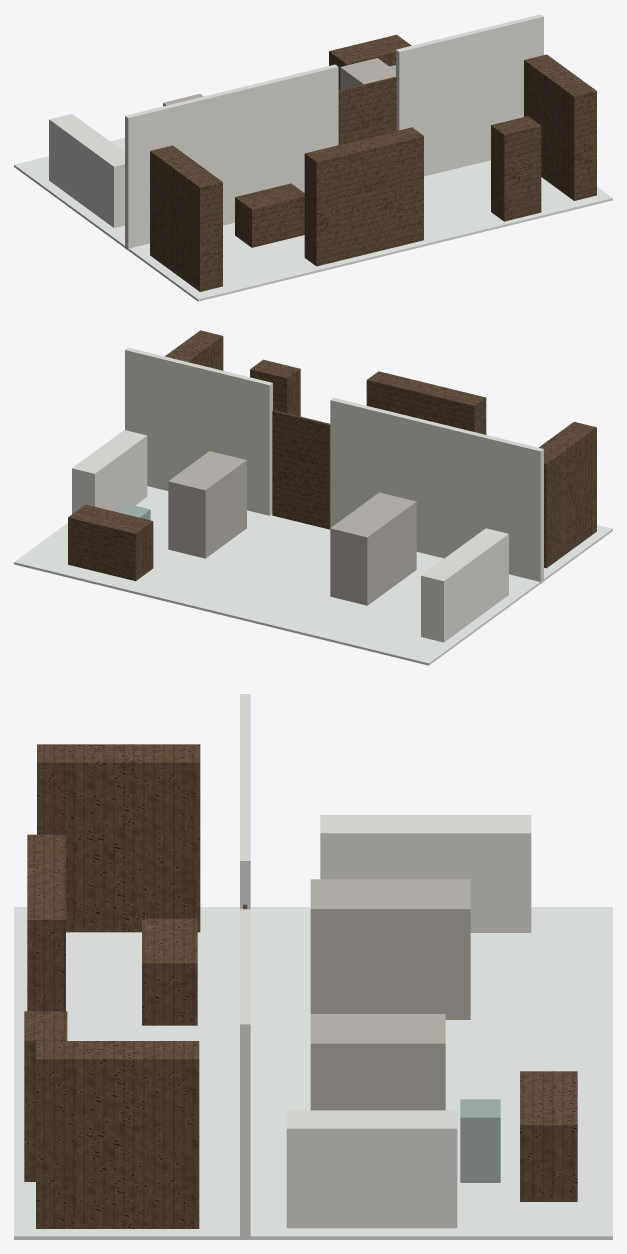
3 views of the same model, one above another, from view 1: azimuth 30°, elevation 25°; view 2: azimuth 150°, elevation 25°; view 3: azimuth 270°, elevation 25° (orthographic). The views are drawn at different scales.
Visible parts, largest first — view 1: C01_divisoria_estoque_E, C01_divisoria_estoque_D, C01_piso_interno_demonstrativo, C01_estante_fundo, C01_estante_estoque_E, C01_estante_estoque_D, C01_expositor_parede_esquerda, C01_armario_administrativo, C01_mesa_apoio_estoque, C01_porta_estoque_folha_FECHADA_CANDIDATA, C01_balcao_caixa, C01_gondola_centro_direita; view 2: C01_piso_interno_demonstrativo, C01_divisoria_estoque_E, C01_divisoria_estoque_D, C01_gondola_centro_esquerda, C01_gondola_centro_direita, C01_expositor_parede_esquerda, C01_estante_estoque_E, C01_porta_estoque_folha_FECHADA_CANDIDATA, C01_balcao_caixa, C01_expositor_parede_direita, C01_estante_fundo, C01_armario_administrativo (+1 smaller); view 3: C01_piso_interno_demonstrativo, C01_estante_estoque_D, C01_estante_estoque_E, C01_gondola_centro_esquerda, C01_expositor_parede_direita, C01_expositor_parede_esquerda, C01_gondola_centro_direita, C01_balcao_caixa, C01_estante_fundo, C01_mesa_apoio_estoque, C01_divisoria_estoque_D, C01_cadeira_caixa (+2 smaller).
Part boxes in pixels (x1,y1,x2,y2): C01_divisoria_estoque_E: [125, 64, 338, 250]; C01_divisoria_estoque_D: [396, 14, 543, 176]; C01_piso_interno_demonstrativo: [14, 137, 612, 301]; C01_estante_fundo: [304, 127, 423, 266]; C01_estante_estoque_E: [150, 145, 222, 291]; C01_estante_estoque_D: [524, 54, 596, 200]; C01_expositor_parede_esquerda: [49, 114, 124, 227]; C01_armario_administrativo: [491, 116, 541, 221]; C01_mesa_apoio_estoque: [235, 183, 304, 247]; C01_porta_estoque_folha_FECHADA_CANDIDATA: [338, 77, 396, 144]; C01_balcao_caixa: [329, 34, 411, 90]; C01_gondola_centro_direita: [340, 58, 395, 89]; C01_piso_interno_demonstrativo: [14, 486, 612, 665]; C01_divisoria_estoque_E: [330, 398, 543, 583]; C01_divisoria_estoque_D: [125, 347, 272, 515]; C01_gondola_centro_esquerda: [330, 492, 416, 605]; C01_gondola_centro_direita: [168, 451, 246, 558]; C01_expositor_parede_esquerda: [421, 528, 508, 642]; C01_estante_estoque_E: [539, 422, 596, 568]; C01_porta_estoque_folha_FECHADA_CANDIDATA: [272, 410, 330, 529]; C01_balcao_caixa: [68, 504, 153, 581]; C01_expositor_parede_direita: [72, 430, 147, 513]; C01_estante_fundo: [366, 371, 486, 434]; C01_armario_administrativo: [250, 359, 300, 416]; C01_piso_interno_demonstrativo: [14, 907, 612, 1239]; C01_estante_estoque_D: [36, 1041, 199, 1228]; C01_estante_estoque_E: [37, 744, 200, 932]; C01_gondola_centro_esquerda: [310, 879, 470, 1019]; C01_expositor_parede_direita: [286, 1110, 457, 1228]; C01_expositor_parede_esquerda: [320, 815, 531, 932]; C01_gondola_centro_direita: [310, 1014, 445, 1110]; C01_balcao_caixa: [520, 1071, 577, 1201]; C01_estante_fundo: [27, 834, 65, 1011]; C01_mesa_apoio_estoque: [142, 918, 197, 1025]; C01_divisoria_estoque_D: [240, 909, 250, 1239]; C01_cadeira_caixa: [460, 1099, 500, 1182].
Size of the model in its own units: 8.7 by 2.65 by 6.67.
5 materials, 1 textured.
